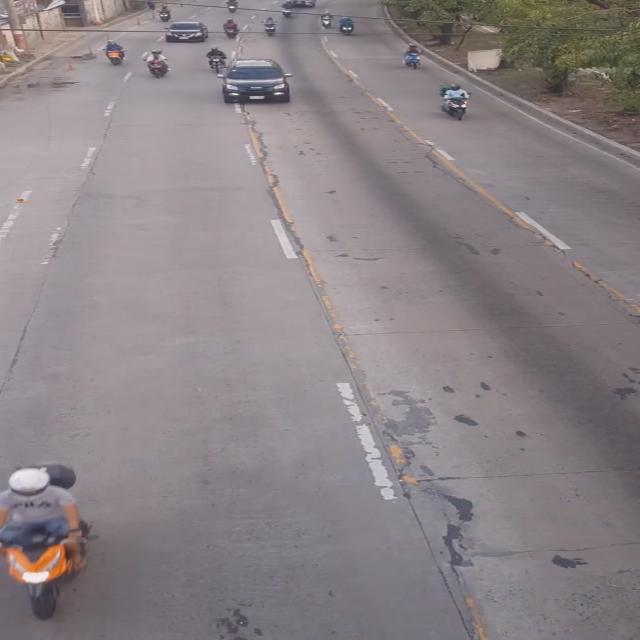car: (221, 56, 295, 107), (164, 19, 209, 43)
motorbike: (0, 460, 101, 621), (440, 77, 471, 121), (95, 38, 132, 67), (149, 41, 171, 82), (200, 47, 222, 75), (404, 42, 423, 74)
